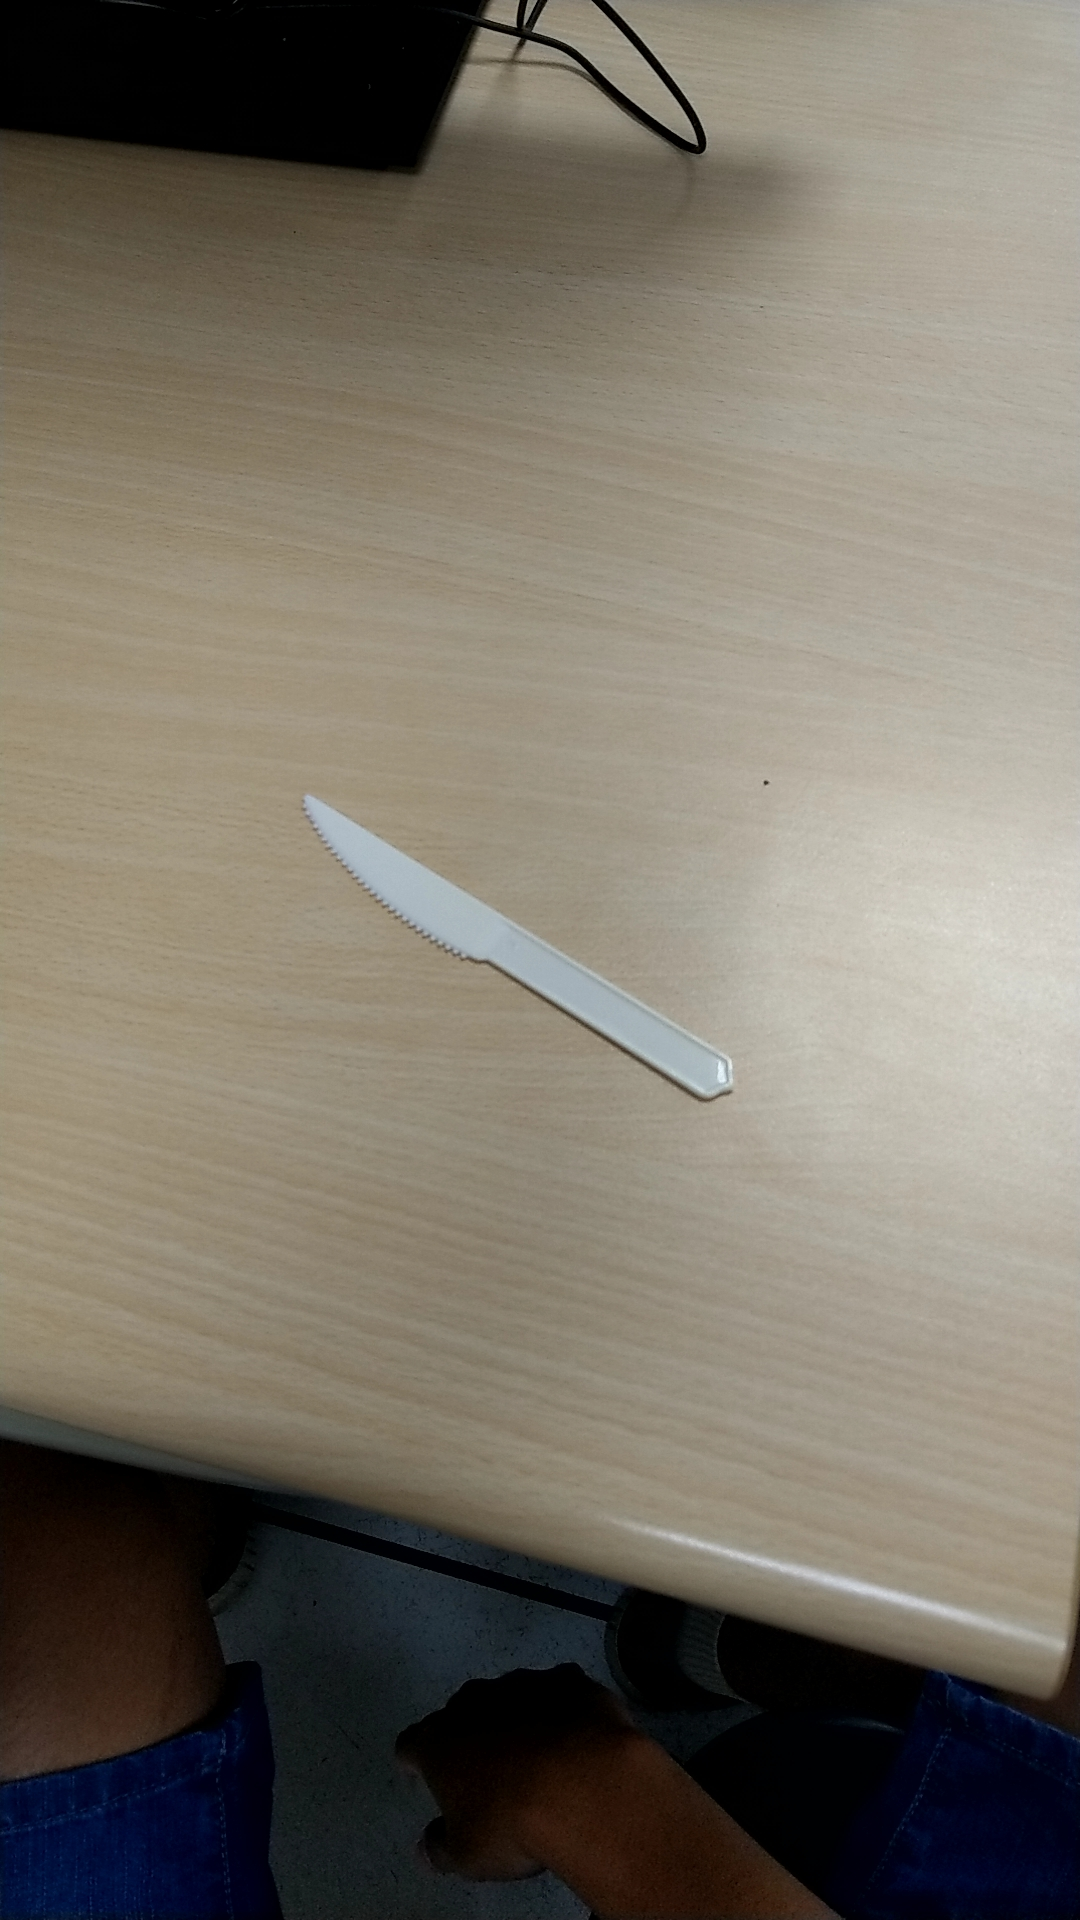knife: (291, 775, 748, 1122)
